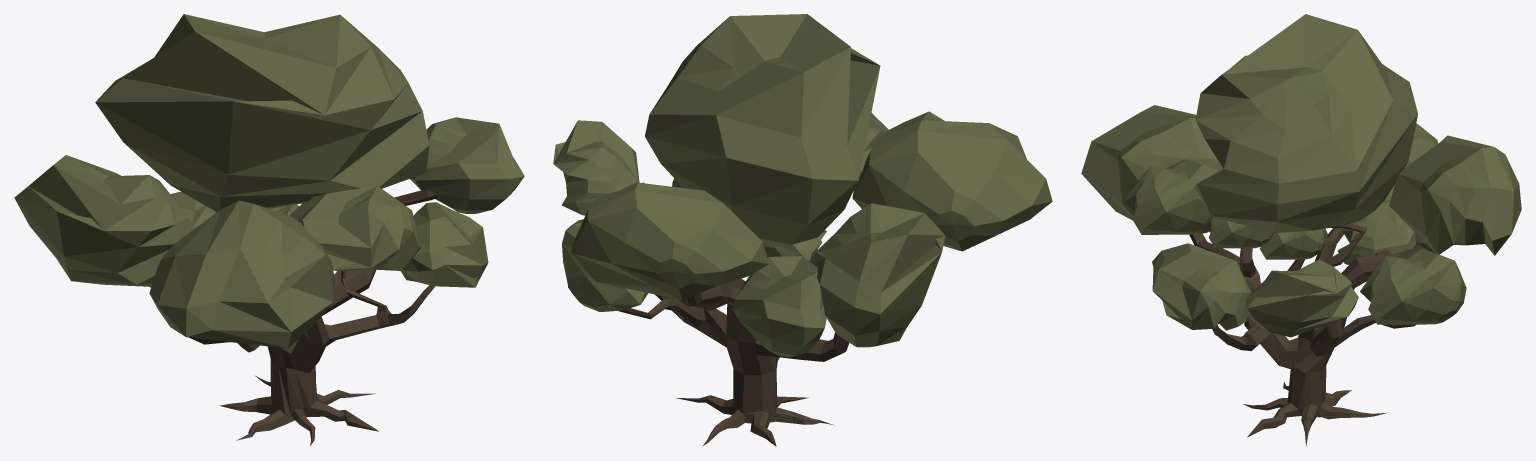
The model's file is The old tree fixed.fbx.
3 renders of one model, left to right at view 1: azimuth 30°, elevation 25°; view 2: azimuth 150°, elevation 25°; view 3: azimuth 270°, elevation 25°, orthographic. The views are drawn at different scales.
Parts seen in each view (by area): view 1: trunk3; view 2: trunk3; view 3: trunk3.
Boxes of the visible parts, left/top/right/bottom form: trunk3: left=14, top=14, right=524, bottom=446; trunk3: left=553, top=14, right=1052, bottom=446; trunk3: left=1081, top=14, right=1521, bottom=446.
Bounding box in the file's own units: 20.47 × 19.19 × 21.29.
